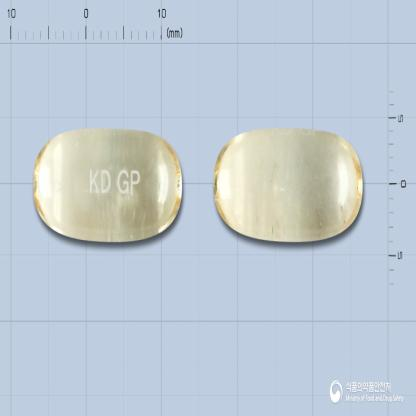pill: (212, 128, 366, 244), (31, 129, 184, 244)
